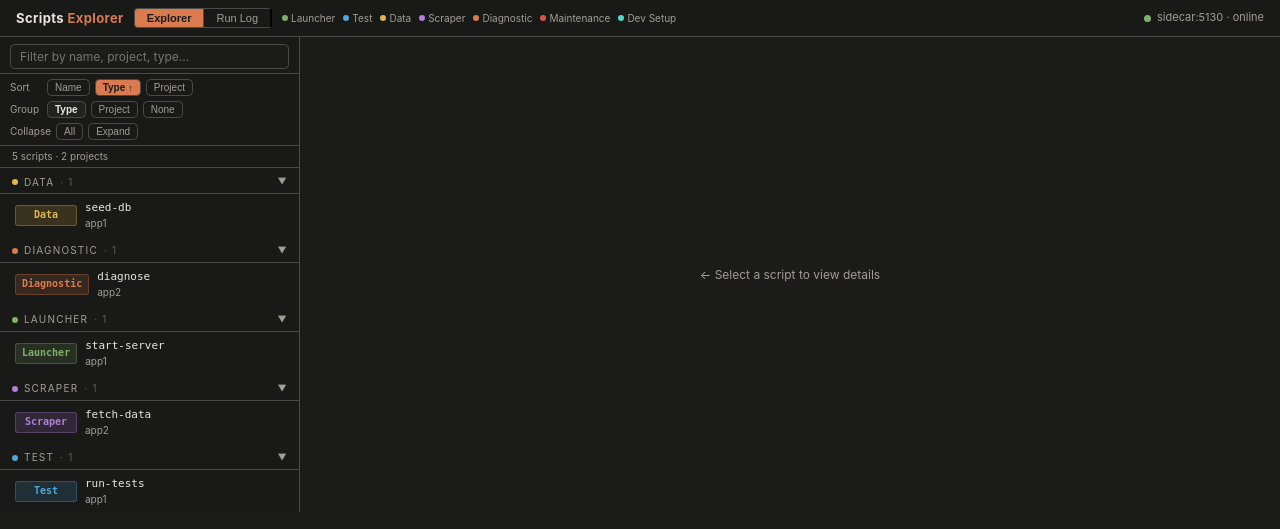
Test: ScriptsExplorer Integration Tests › Complex Script Workflows › should handle multiple group toggles
This screenshot has width=1280, height=529.
# Toggle first group
Click the button with test id "script-group-header-" at x=39, y=182, box [0,168,299,194]
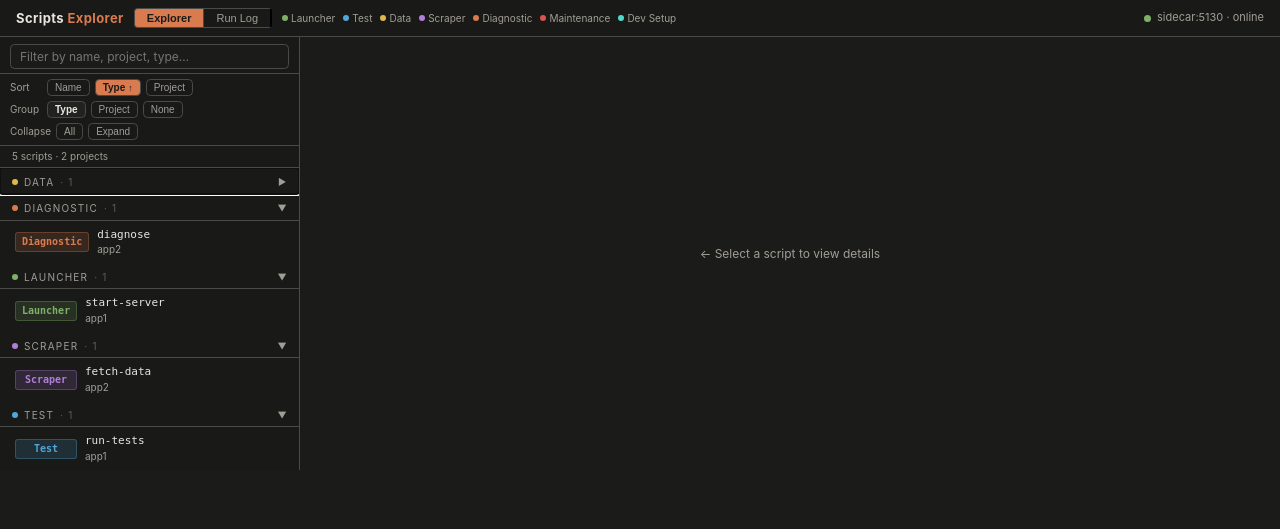
# Toggle second group
Click the button with test id "script-group-header-" at x=61, y=208, box [0,194,299,220]
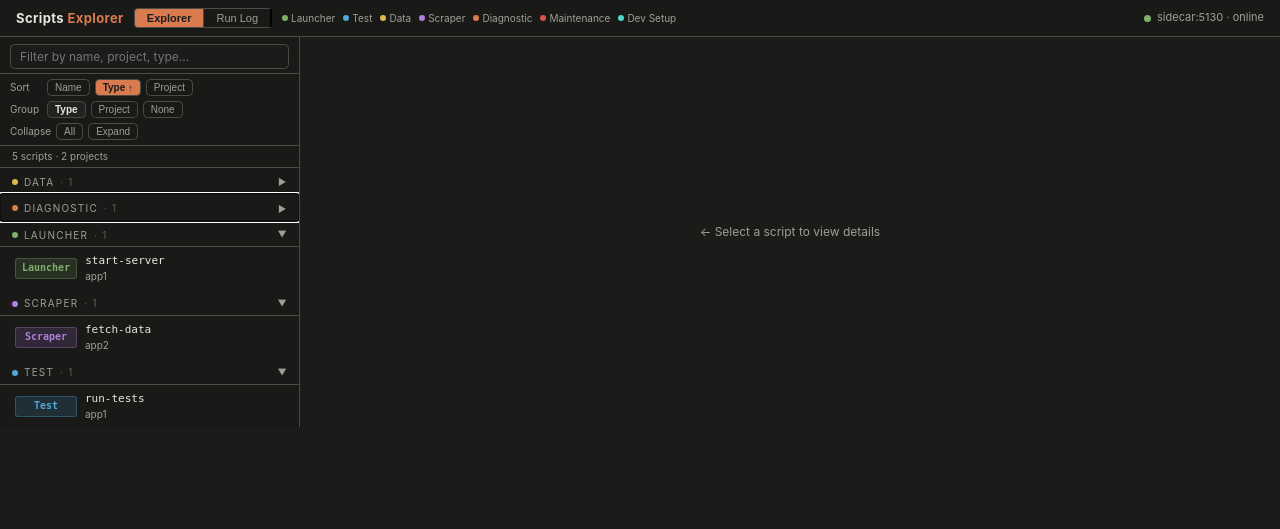
# Toggle first group back
Click the button with test id "script-group-header-" at x=39, y=182, box [0,168,299,194]
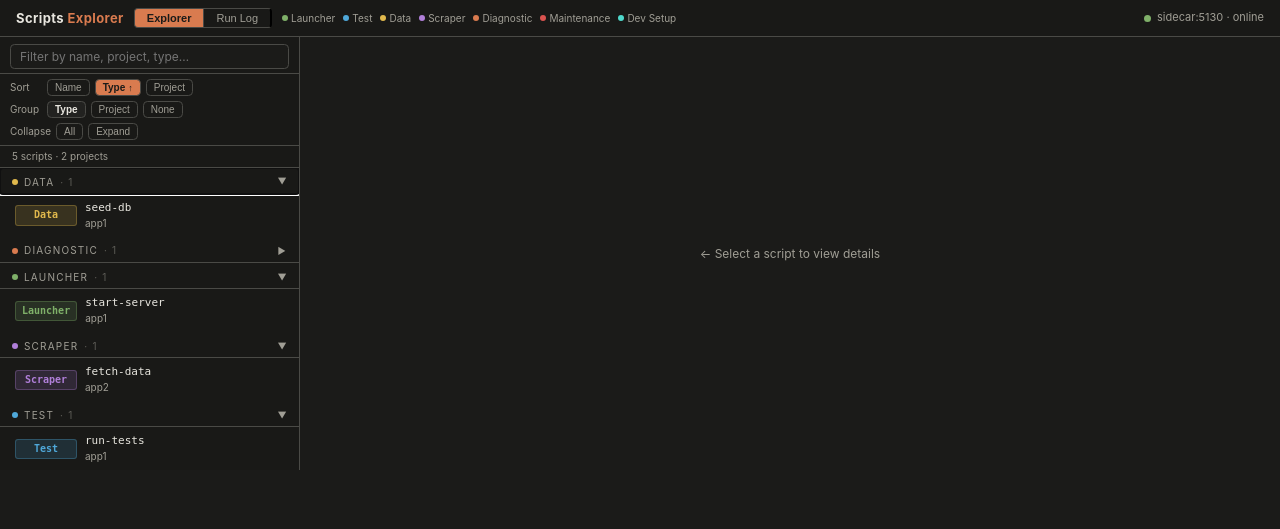
Check: the button with test id "script-group-header-" has attribute aria-expanded, box [0,168,299,194]
